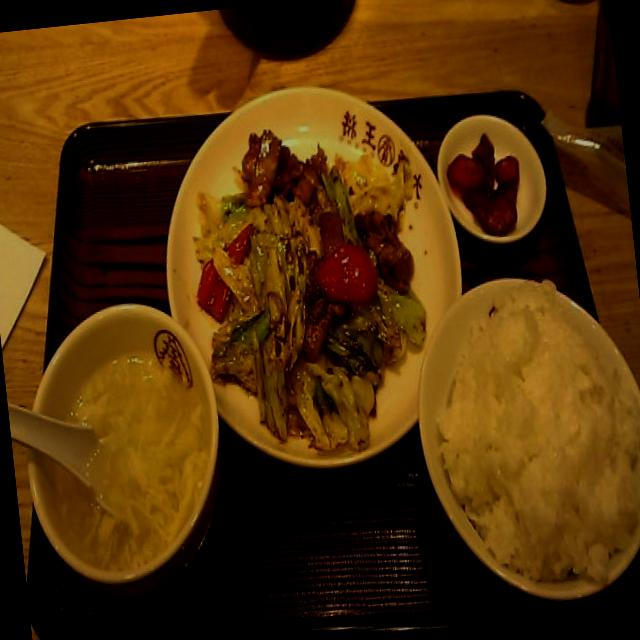Rice: (421, 282, 640, 575)
